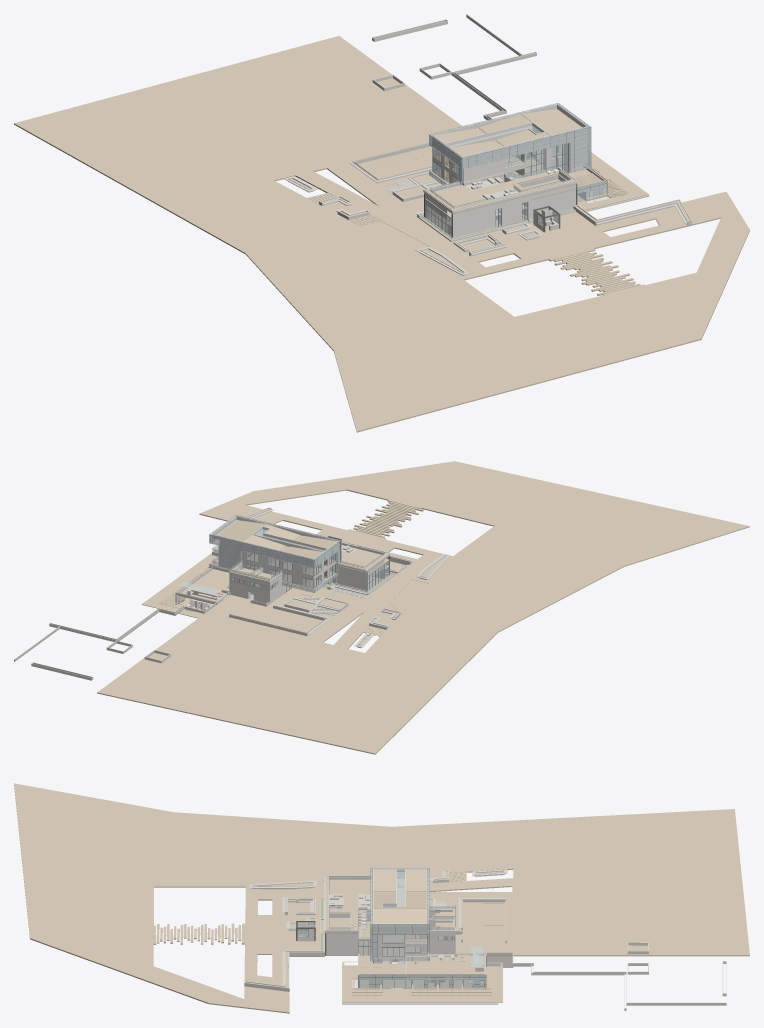
The model's file is eco-hotel.glb.
3 views of the same model, one above another, from view 1: azimuth 30°, elevation 25°; view 2: azimuth 150°, elevation 25°; view 3: azimuth 270°, elevation 25° (orthographic). The views are drawn at different scales.
Parts seen in each view (by area): view 1: Floor piso, espacio publico zona dura [226926], Mobiliario 1 Mobiliario 1 [280696], Basic Wall muro fachada blancaaaaa [262601], Basic Wall Interior- Exterior .15 [262584], Floor cubierta [1960156], Floor Placa Entrepiso .10m [356138], Panel de sistema ALUCOBOND [1746374], Railing Panel de vidrio - Relleno inferior [758731], Railing Panel de vidrio - Relleno inferior [1232327], Assembled Stair Stair [324152]_[324696], Sanitary_Basins_Gala_Bowl-Over-counter-wash-basin-O-410 Bowl, Mobiliario 8 Mobiliario 25 [758769] (+4 smaller); view 2: Floor piso, espacio publico zona dura [226926], Mobiliario 1 Mobiliario 1 [280696], Basic Wall muro fachada blancaaaaa [262601], Floor cubierta [1960156], Panel de sistema ALUCOBOND [1746374], Basic Wall Interior- Exterior .15 [262584], Railing Panel de vidrio - Relleno inferior [1232327], Railing Panel de vidrio - Relleno inferior [758731], Assembled Stair Stair [324152]_[324696], Floor Placa Entrepiso .10m [356138], Railing Panel de vidrio - Relleno inferior [324762], Sanitary_Basins_Gala_Bowl-Over-counter-wash-basin-O-410 Bowl (+2 smaller); view 3: Floor piso, espacio publico zona dura [226926], Mobiliario 1 Mobiliario 1 [280696], Basic Wall Interior- Exterior .15 [262584], Floor cubierta [1960156], Floor Placa Entrepiso .10m [356138], Assembled Stair Stair [324152]_[324696], Railing Panel de vidrio - Relleno inferior [325177], Railing Panel de vidrio - Relleno inferior [324762], Sanitary_Basins_Gala_Bowl-Over-counter-wash-basin-O-410 Bowl, Panel de sistema ALUCOBOND [1746374], Railing Panel de vidrio - Relleno inferior [758731], Mobiliario 8 Mobiliario 25 [758769] (+8 smaller).
Part boxes in pixels (<box>): Floor piso, espacio publico zona dura [226926]: <box>14,36,749,432</box>; Mobiliario 1 Mobiliario 1 [280696]: <box>288,14,691,275</box>; Basic Wall muro fachada blancaaaaa [262601]: <box>425,109,587,225</box>; Basic Wall Interior- Exterior .15 [262584]: <box>424,165,649,237</box>; Floor cubierta [1960156]: <box>434,109,586,161</box>; Floor Placa Entrepiso .10m [356138]: <box>424,164,577,219</box>; Panel de sistema ALUCOBOND [1746374]: <box>429,103,591,164</box>; Railing Panel de vidrio - Relleno inferior [758731]: <box>430,144,591,207</box>; Railing Panel de vidrio - Relleno inferior [1232327]: <box>429,132,591,178</box>; Assembled Stair Stair [324152]_[324696]: <box>291,159,689,271</box>; Sanitary_Basins_Gala_Bowl-Over-counter-wash-basin-O-410 Bowl: <box>284,162,687,275</box>; Mobiliario 8 Mobiliario 25 [758769]: <box>425,170,576,210</box>; Floor piso, espacio publico zona dura [226926]: <box>97,461,749,754</box>; Mobiliario 1 Mobiliario 1 [280696]: <box>14,507,447,680</box>; Basic Wall muro fachada blancaaaaa [262601]: <box>212,538,389,603</box>; Floor cubierta [1960156]: <box>216,520,336,558</box>; Panel de sistema ALUCOBOND [1746374]: <box>209,515,341,564</box>; Basic Wall Interior- Exterior .15 [262584]: <box>176,557,388,606</box>; Railing Panel de vidrio - Relleno inferior [1232327]: <box>209,538,341,575</box>; Railing Panel de vidrio - Relleno inferior [758731]: <box>212,546,384,589</box>; Assembled Stair Stair [324152]_[324696]: <box>177,508,445,645</box>; Floor Placa Entrepiso .10m [356138]: <box>229,542,390,583</box>; Railing Panel de vidrio - Relleno inferior [324762]: <box>179,557,389,594</box>; Sanitary_Basins_Gala_Bowl-Over-counter-wash-basin-O-410 Bowl: <box>186,509,450,647</box>; Floor piso, espacio publico zona dura [226926]: <box>14,783,749,1013</box>; Mobiliario 1 Mobiliario 1 [280696]: <box>244,870,726,1010</box>; Basic Wall Interior- Exterior .15 [262584]: <box>297,909,513,1004</box>; Floor cubierta [1960156]: <box>372,869,426,923</box>; Floor Placa Entrepiso .10m [356138]: <box>324,876,454,937</box>; Assembled Stair Stair [324152]_[324696]: <box>245,871,506,987</box>; Railing Panel de vidrio - Relleno inferior [325177]: <box>358,959,485,987</box>; Railing Panel de vidrio - Relleno inferior [324762]: <box>297,922,485,976</box>; Sanitary_Basins_Gala_Bowl-Over-counter-wash-basin-O-410 Bowl: <box>249,869,507,985</box>; Panel de sistema ALUCOBOND [1746374]: <box>370,868,429,930</box>; Railing Panel de vidrio - Relleno inferior [758731]: <box>329,876,454,957</box>; Mobiliario 8 Mobiliario 25 [758769]: <box>325,876,453,930</box>.
Size of the model in its own units: 128 by 16.45 by 173.
